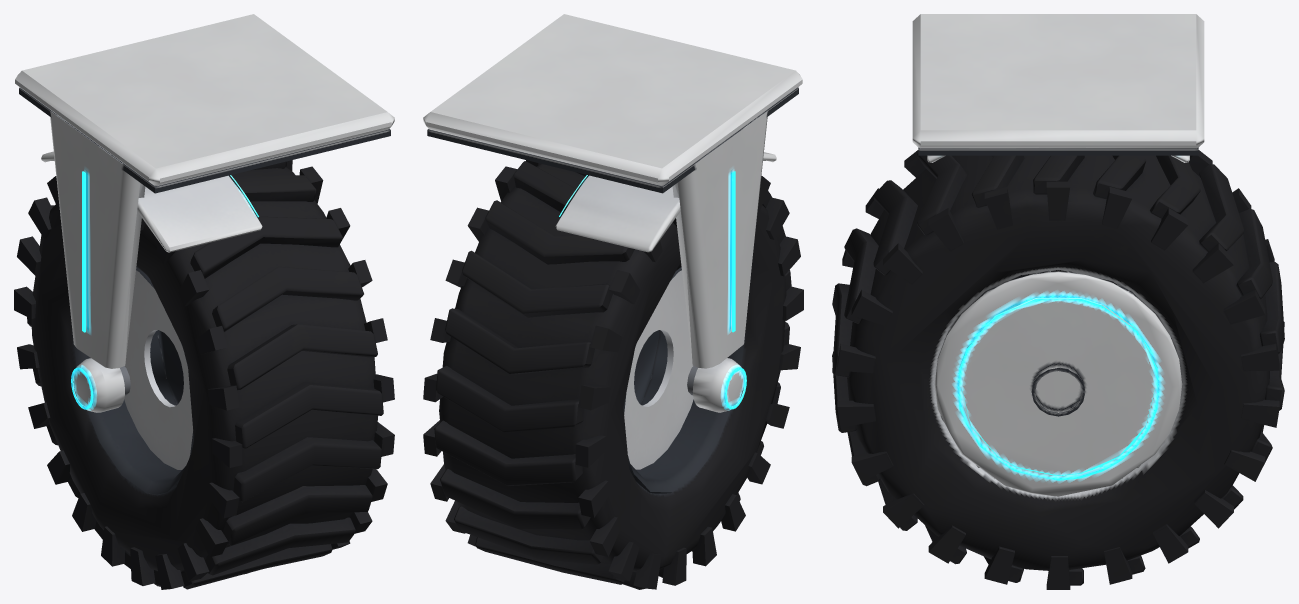
The model's file is R4M_Wheel_LOD1.glb.
3 renders of one model, left to right at view 1: azimuth 30°, elevation 25°; view 2: azimuth 150°, elevation 25°; view 3: azimuth 270°, elevation 25°, orthographic. The views are drawn at different scales.
Visible parts, largest first — view 1: R4M_Wheel_LOD1; view 2: R4M_Wheel_LOD1; view 3: R4M_Wheel_LOD1.
Part boxes in pixels (x1,y1,x2,y2): R4M_Wheel_LOD1: (14, 14, 394, 589); R4M_Wheel_LOD1: (423, 14, 803, 589); R4M_Wheel_LOD1: (832, 14, 1284, 589).
Size of the model in its own units: 0.5005 by 0.906 by 0.7755.
1 material, 1 textured.
